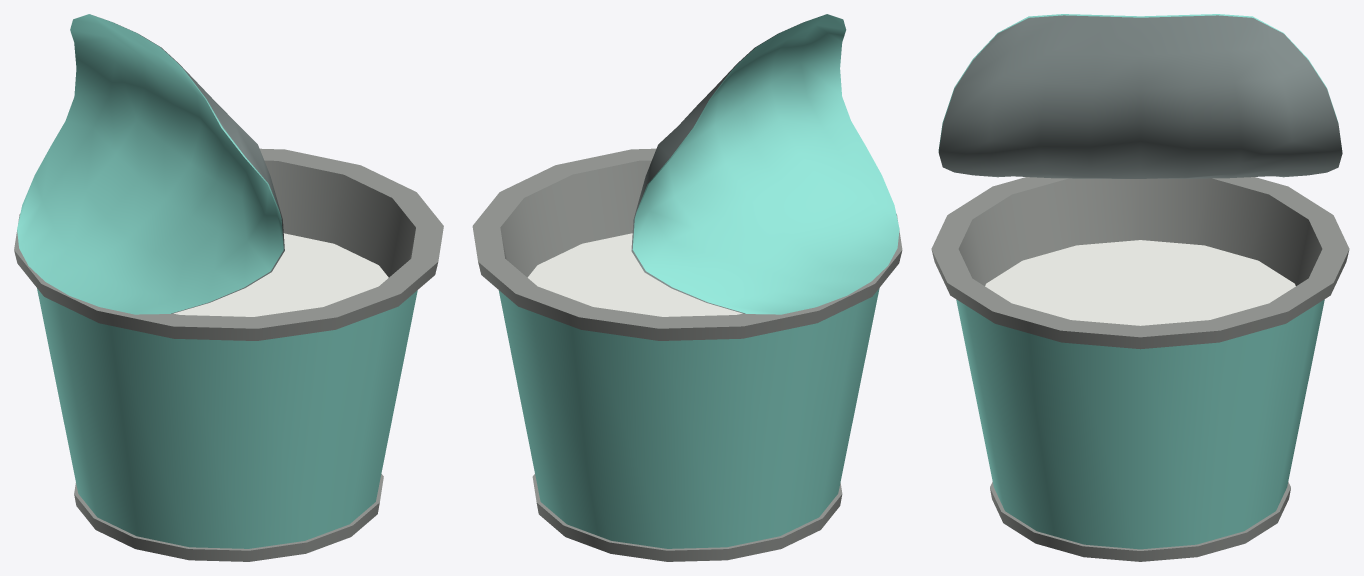
The model's file is Yogurt.fbx.
3 renders of one model, left to right at view 1: azimuth 30°, elevation 25°; view 2: azimuth 150°, elevation 25°; view 3: azimuth 270°, elevation 25°, orthographic. The views are drawn at different scales.
Parts seen in each view (by area): view 1: Cylinder, Cylinder.001, Cylinder.002; view 2: Cylinder, Cylinder.001, Cylinder.002; view 3: Cylinder, Cylinder.001, Cylinder.002.
Part boxes in pixels (<box>): Cylinder: <box>14,148,443,561</box>; Cylinder.001: <box>17,14,284,314</box>; Cylinder.002: <box>173,233,388,316</box>; Cylinder: <box>472,148,902,561</box>; Cylinder.001: <box>631,14,899,314</box>; Cylinder.002: <box>527,233,742,316</box>; Cylinder: <box>931,177,1349,561</box>; Cylinder.001: <box>938,14,1342,178</box>; Cylinder.002: <box>985,240,1295,325</box>.
Bounding box in the file's own units: 200 × 238 × 200.
